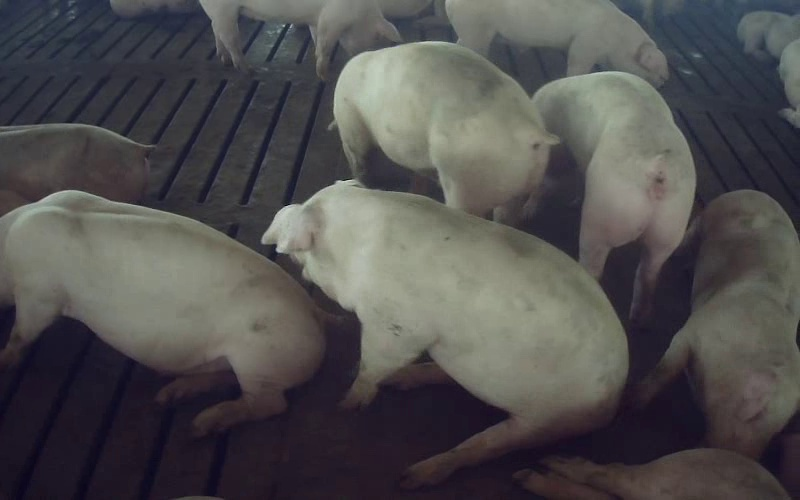pig: (263, 182, 627, 486), (633, 190, 799, 457), (533, 72, 695, 321), (334, 42, 557, 217), (446, 0, 668, 86), (200, 0, 401, 79), (513, 448, 789, 499), (0, 123, 152, 215)
